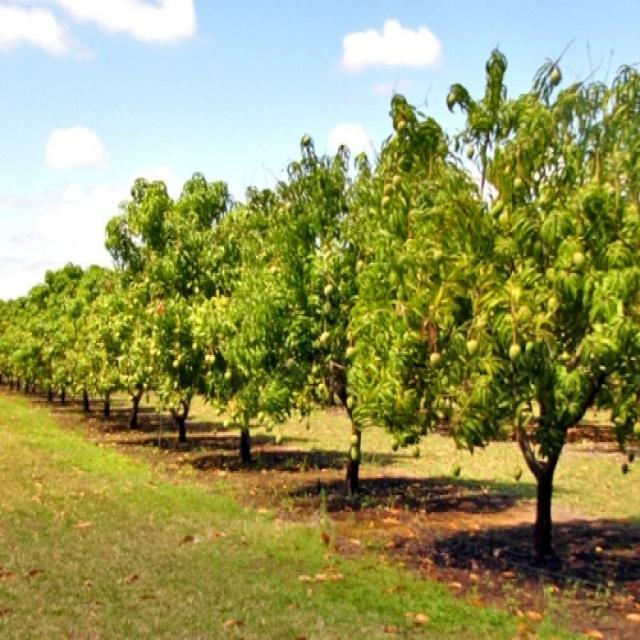Mango-Tree: (22, 102, 639, 466)
